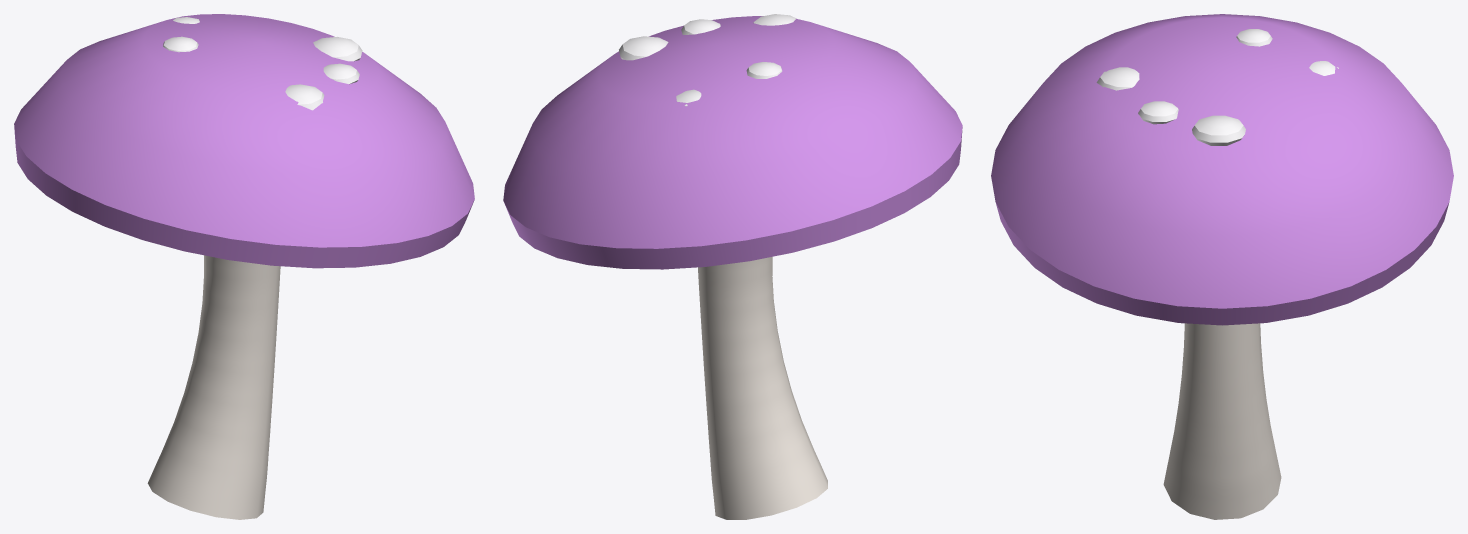
Rendered from GiantMushroom_A.fbx.
3 renders of one model, left to right at view 1: azimuth 30°, elevation 25°; view 2: azimuth 150°, elevation 25°; view 3: azimuth 270°, elevation 25°, orthographic.
Visible parts, largest first — view 1: GiantMushroom_A; view 2: GiantMushroom_A; view 3: GiantMushroom_A.
Part boxes in pixels (left/top/right/bottom): GiantMushroom_A: left=14, top=14, right=474, bottom=519; GiantMushroom_A: left=503, top=14, right=962, bottom=519; GiantMushroom_A: left=991, top=14, right=1453, bottom=519.
Size of the model in its own units: 8.47 by 9.43 by 8.6.
